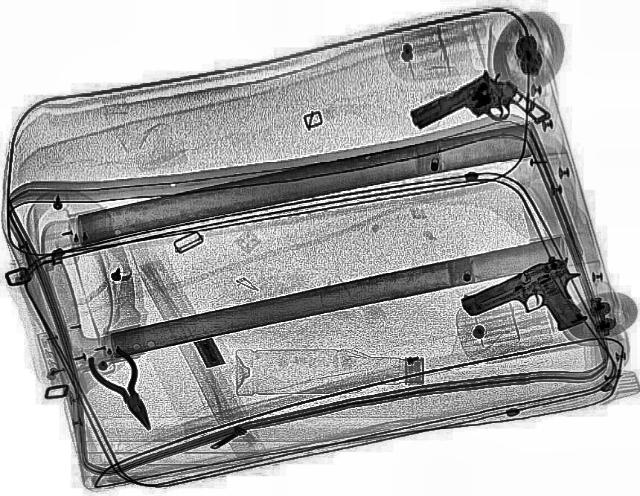Gun: (453, 251, 611, 355), (397, 60, 553, 164)
Pliers: (80, 345, 170, 435)
